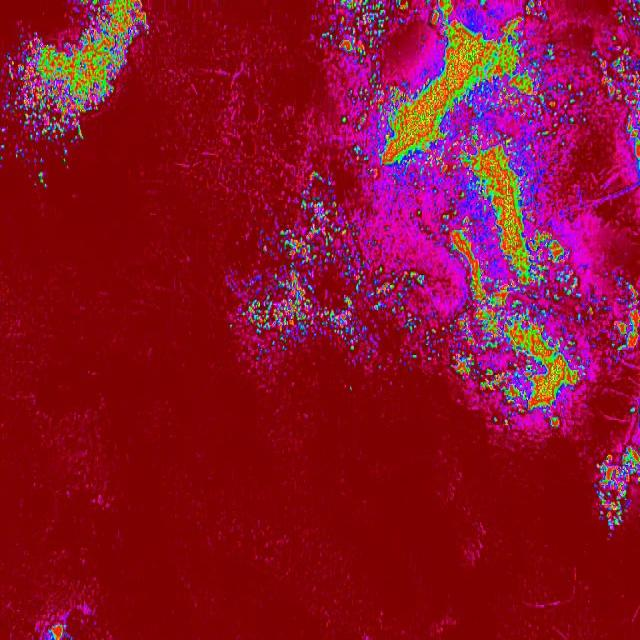fire: (329, 0, 640, 421), (231, 164, 330, 360), (0, 42, 128, 78), (589, 449, 640, 536), (0, 78, 116, 114), (0, 115, 83, 160), (77, 0, 148, 41), (45, 624, 72, 640)
